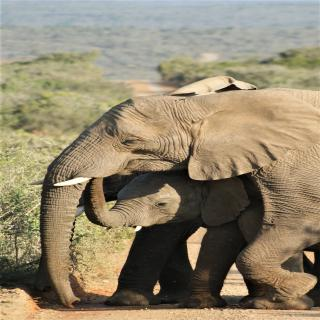Elephant: (27, 79, 320, 319), (76, 163, 306, 308)
